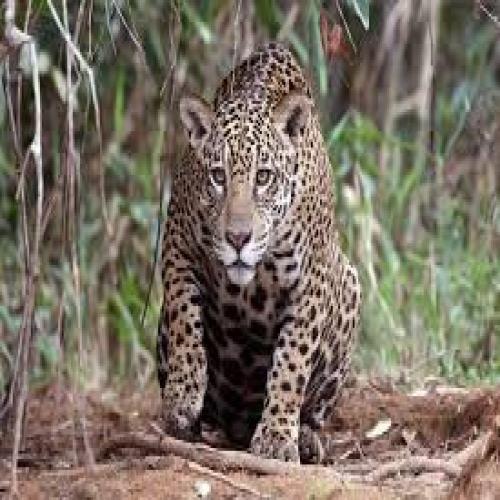jaguar_not-endangered: (160, 52, 360, 459)
